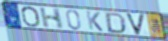0: (65, 9, 83, 31)
D: (105, 12, 127, 35)
H: (39, 7, 65, 30)
K: (85, 10, 105, 33)
O: (20, 6, 42, 28)
V: (125, 13, 147, 37)
